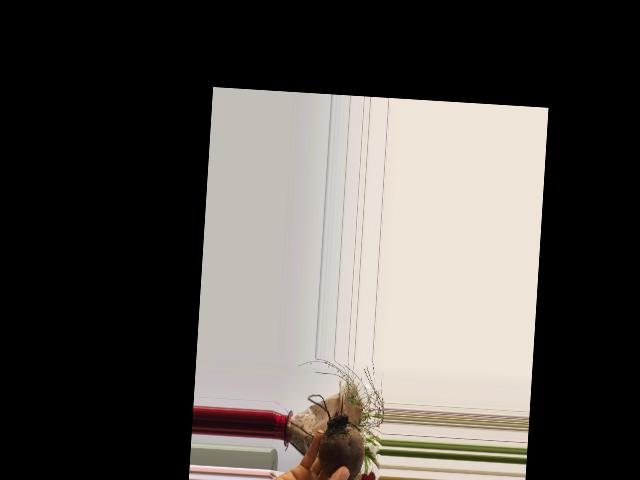beet: (301, 393, 374, 480)
